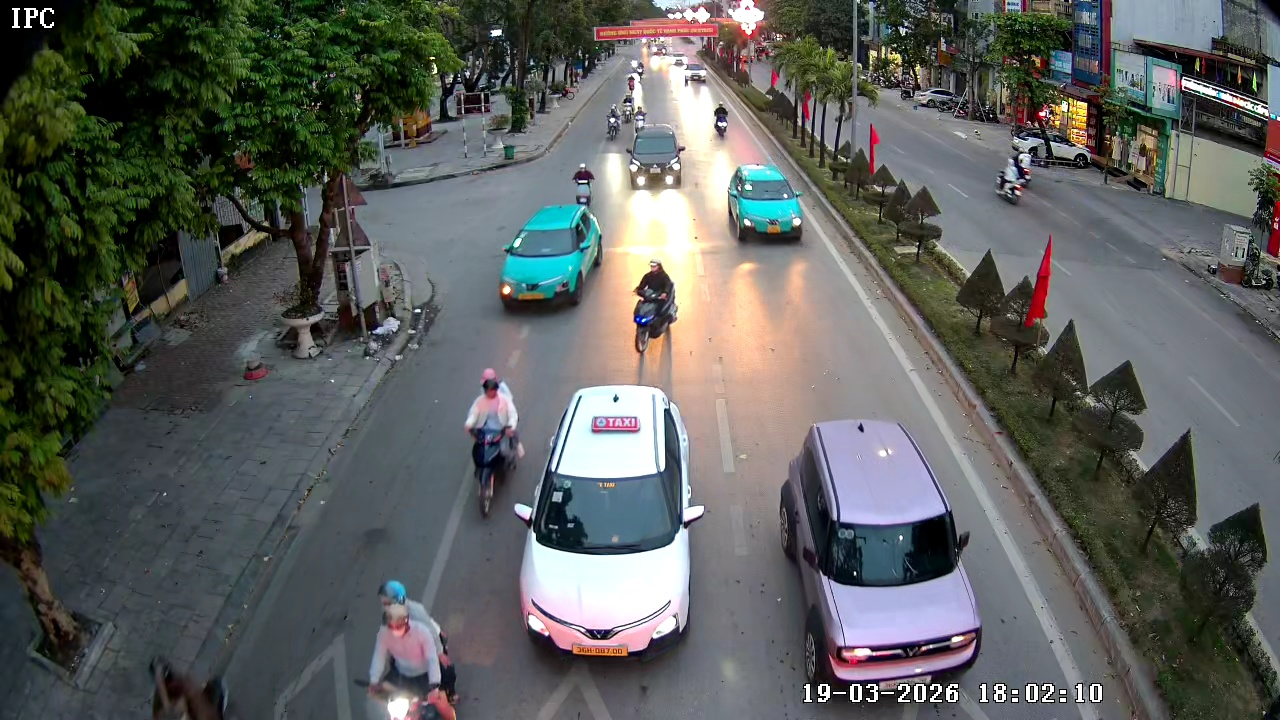car: (777, 417, 984, 711), (516, 384, 703, 665), (497, 204, 604, 311), (726, 165, 806, 244), (625, 125, 685, 189)
exception: (358, 579, 460, 719)
motorbike: (463, 369, 525, 518), (629, 257, 679, 355), (994, 145, 1033, 206), (572, 161, 598, 214), (711, 100, 733, 138), (607, 104, 620, 142)
